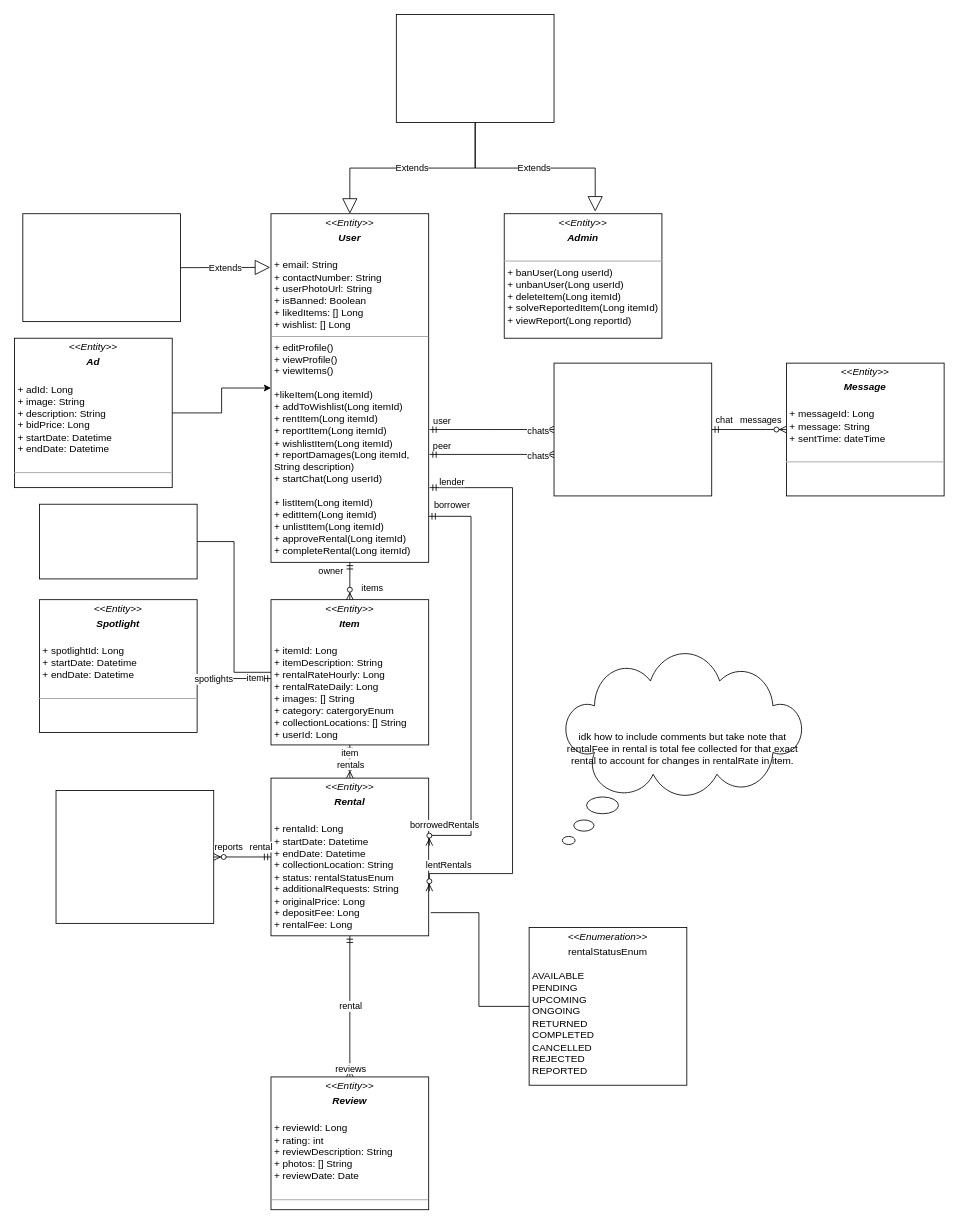
The diagram is 959 pixels wide and 1224 high, and some of its shapes have lost their labels. The centre of each missing label's shape, as x and y in pixels:
<<Entity>> Account + userId: Long + username: String + password: String: point 474,68
<<Entity>> Business + spotlightItem(Long itemId) + removeSpotlight(Long itemId): point 101,267
<<Entity>> Chat + chatId: Long: point 632,429
<<Entity>> Report + reportId: Long + reportDescription: String: point 134,856
<<Enumeration>> catergoryEnum: point 118,541
